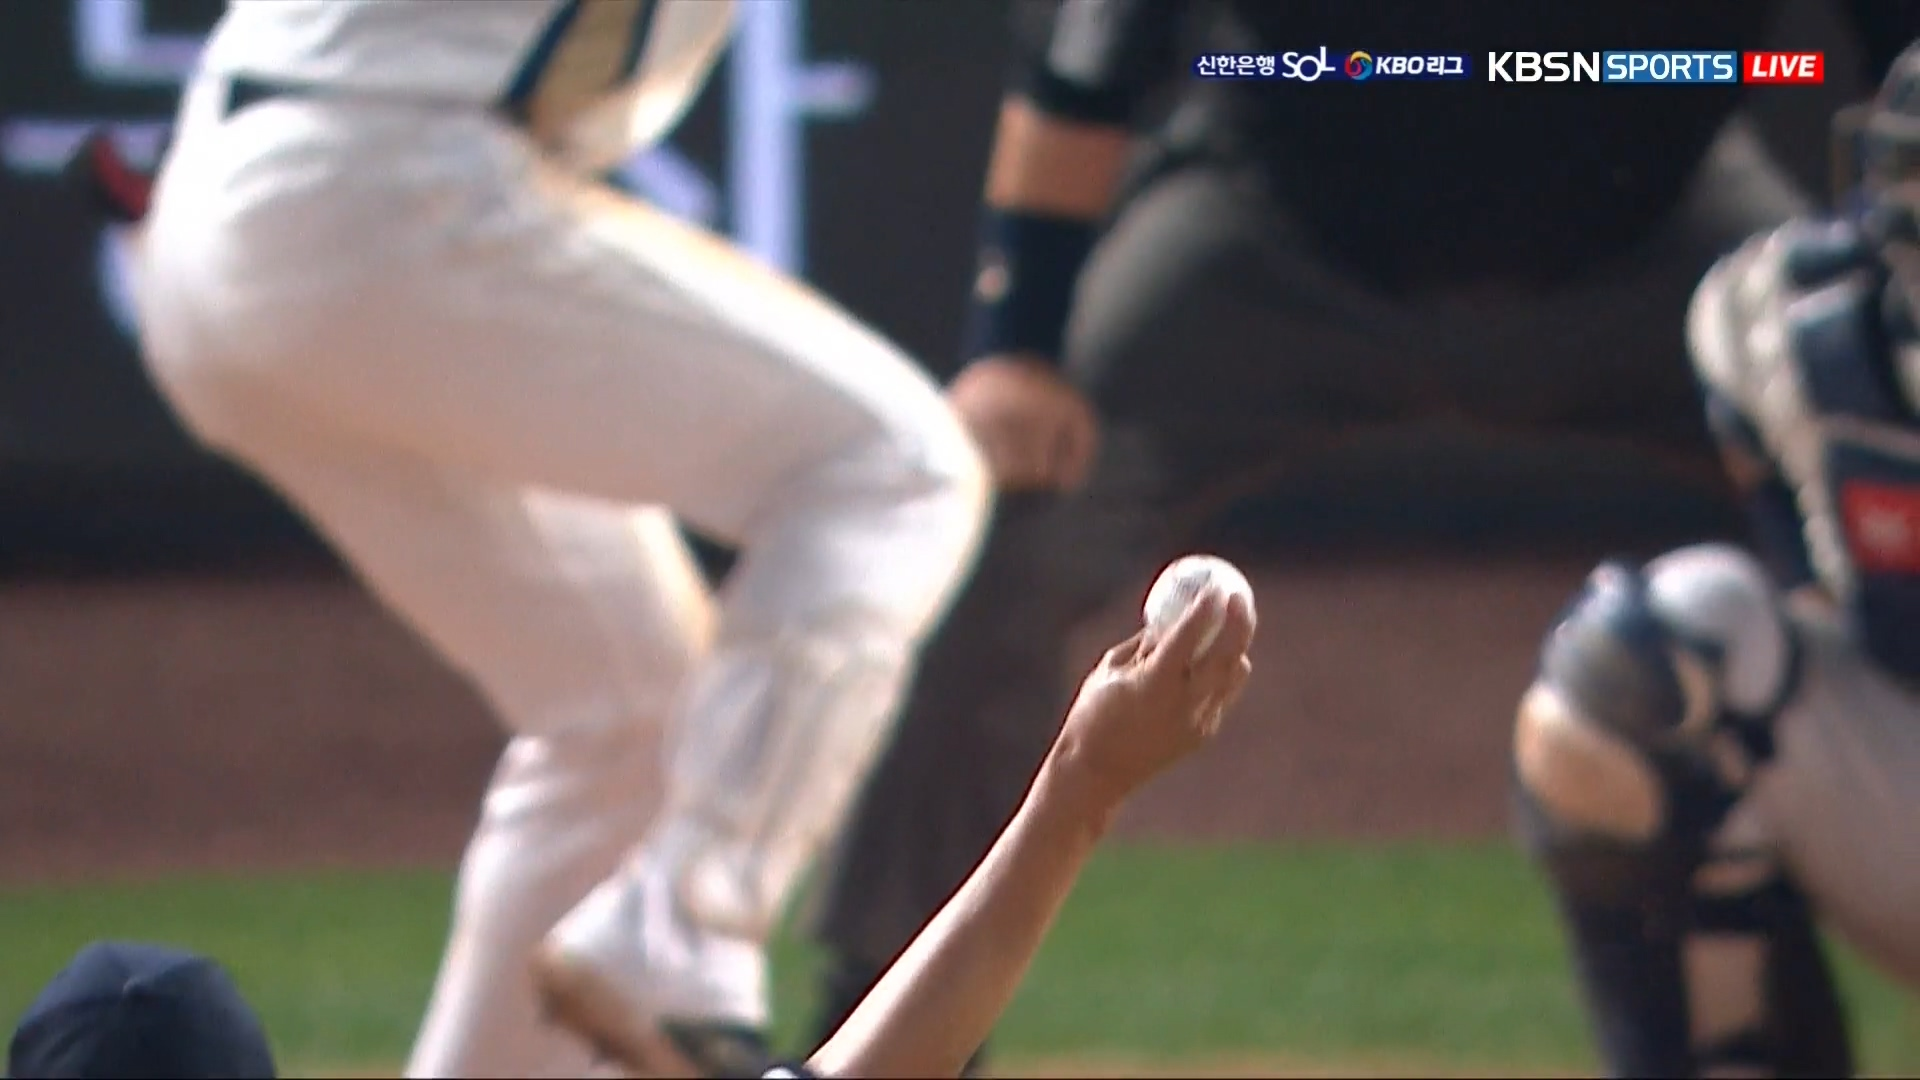zoomin_hand: (843, 529, 1269, 1065)
